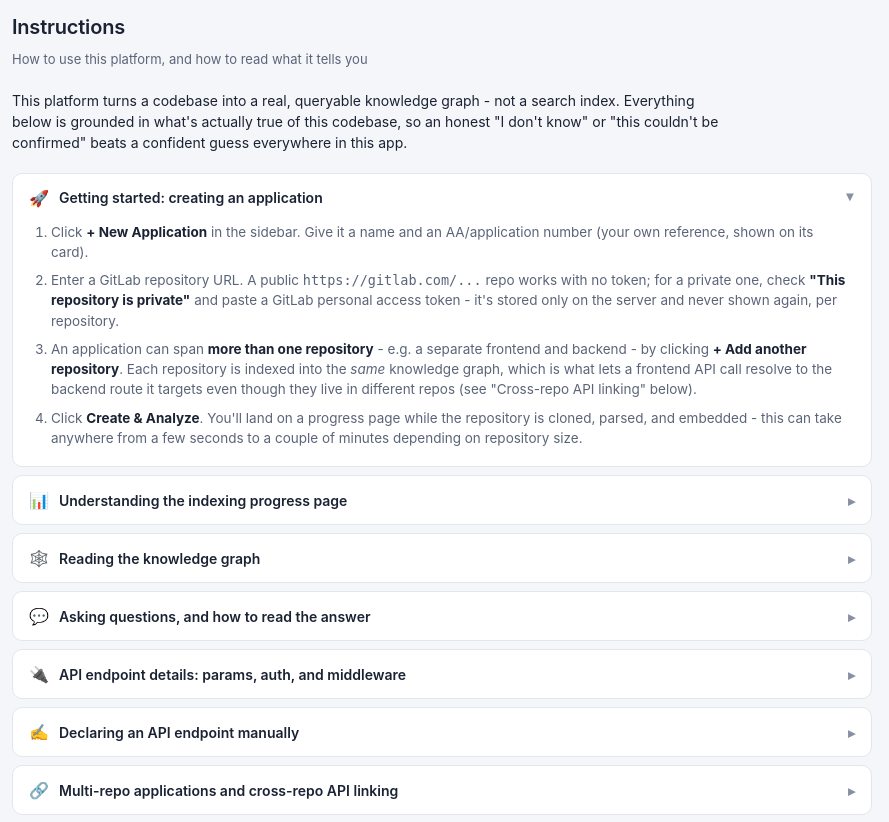
Test case: InstructionsPage › explains the graph node legend colors
Click the text "Reading the knowledge graph" at (145, 558), box [29,548,260,568]
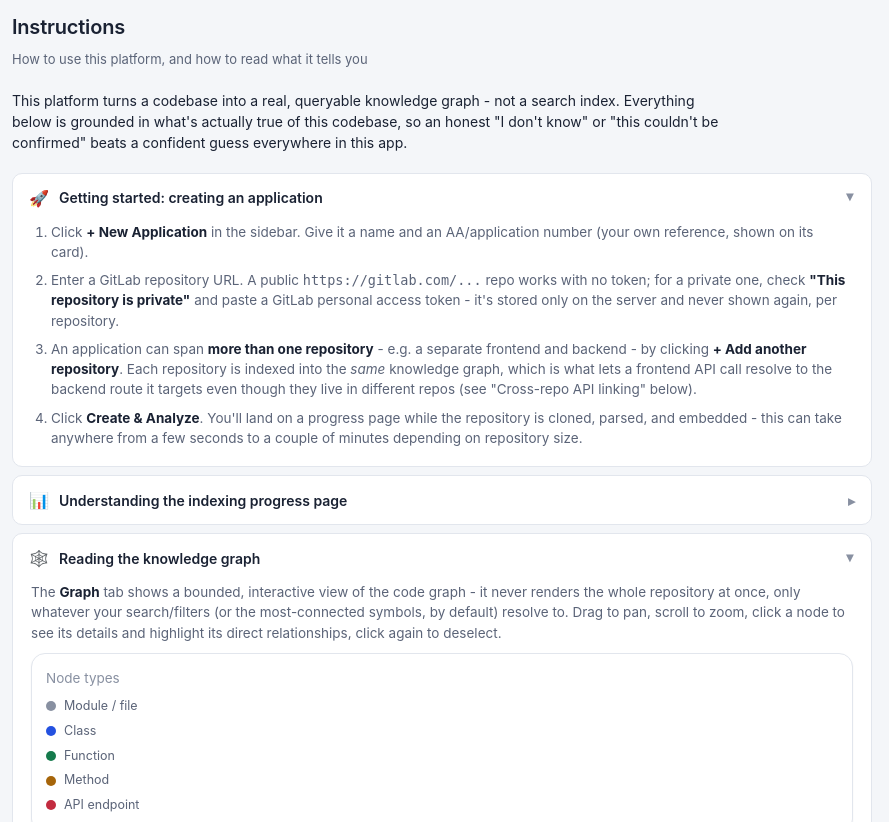
Expected: the text "API endpoint" is shown, [46,797,140,812]
Expected: the text "Module / file" is shown, [46,698,138,713]
